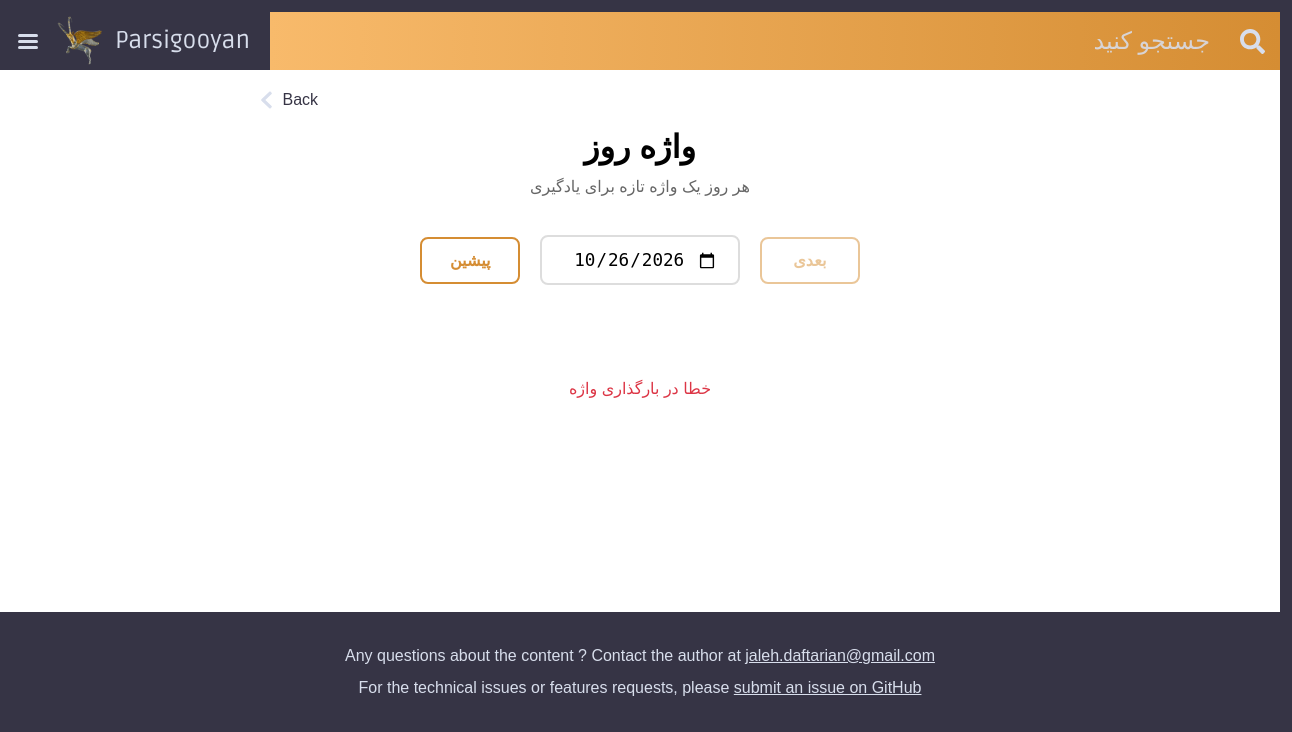
Word of the Date page › Go to today button › navigates back to today when clicking the "go to today" button
Click the button "پیشین". click: (470, 261)
box: [420,237,520,284]
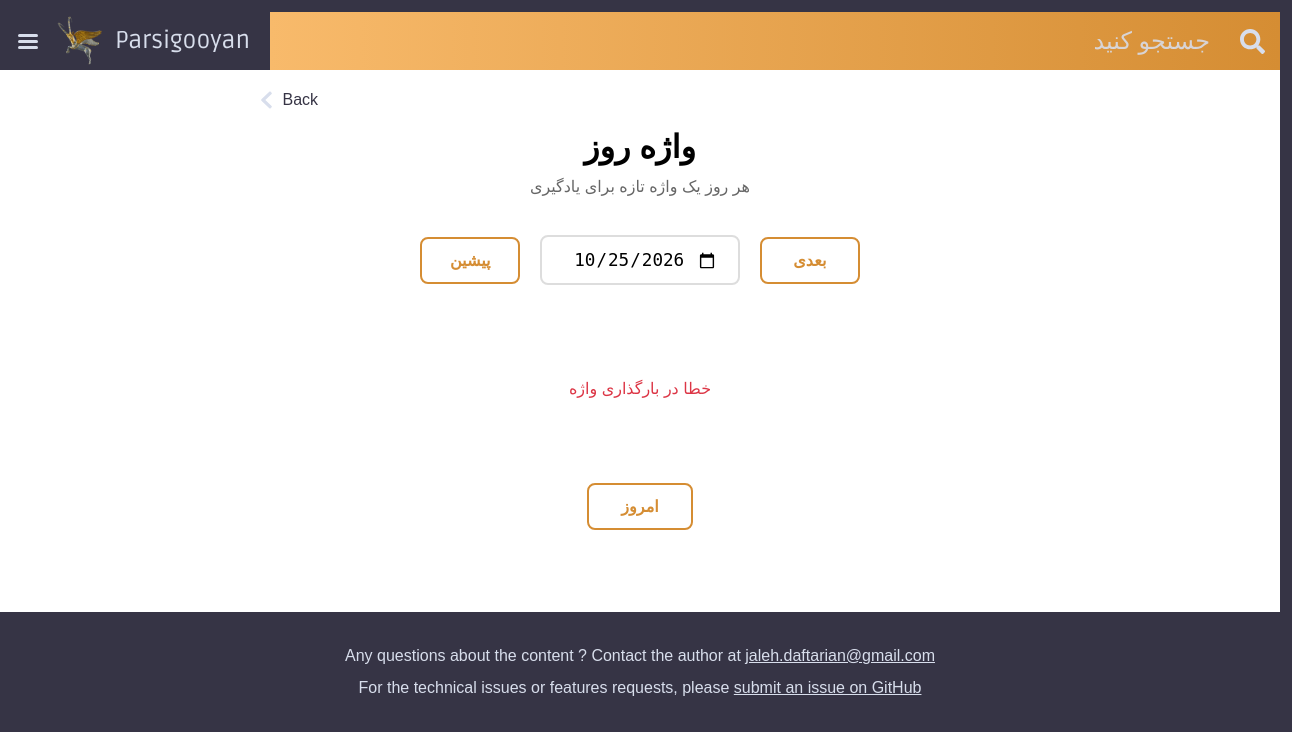
Click the button "پیشین". click: (470, 261)
box: [420,237,520,284]
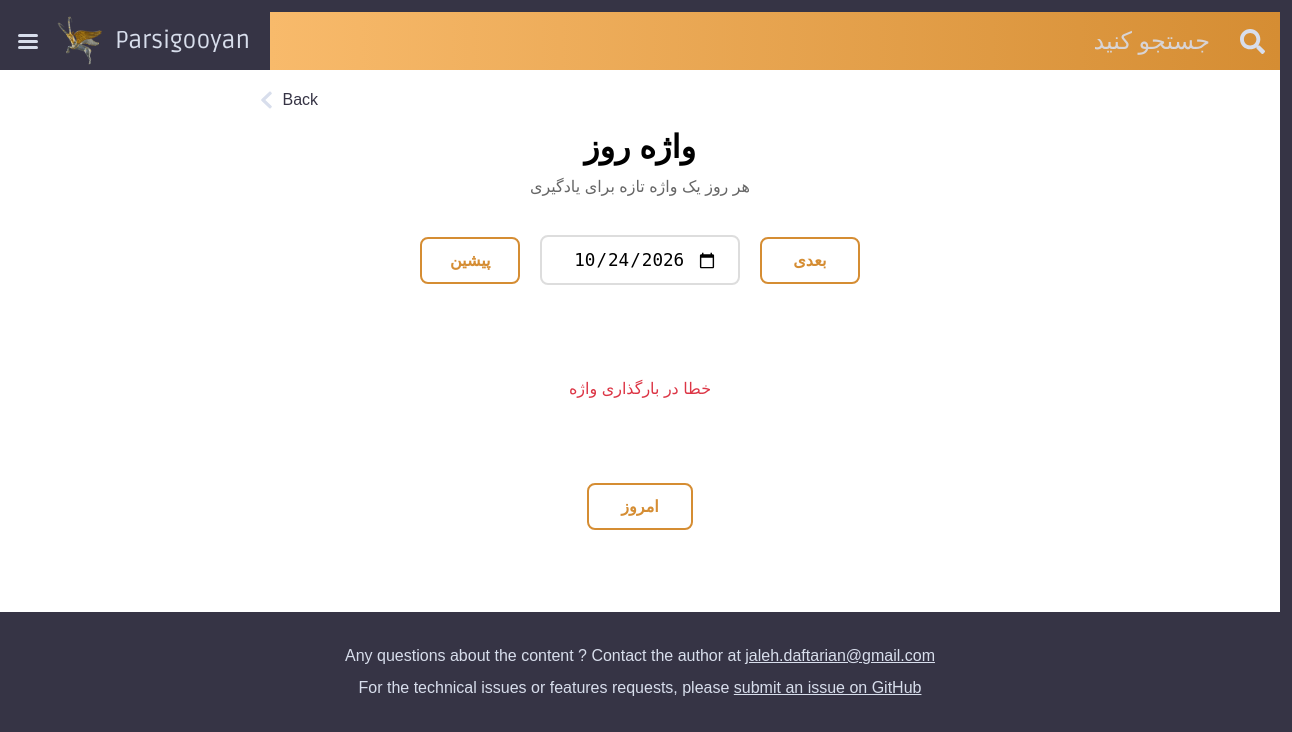
Click the button with class "today-button". click: (640, 507)
box: [587,483,692,530]
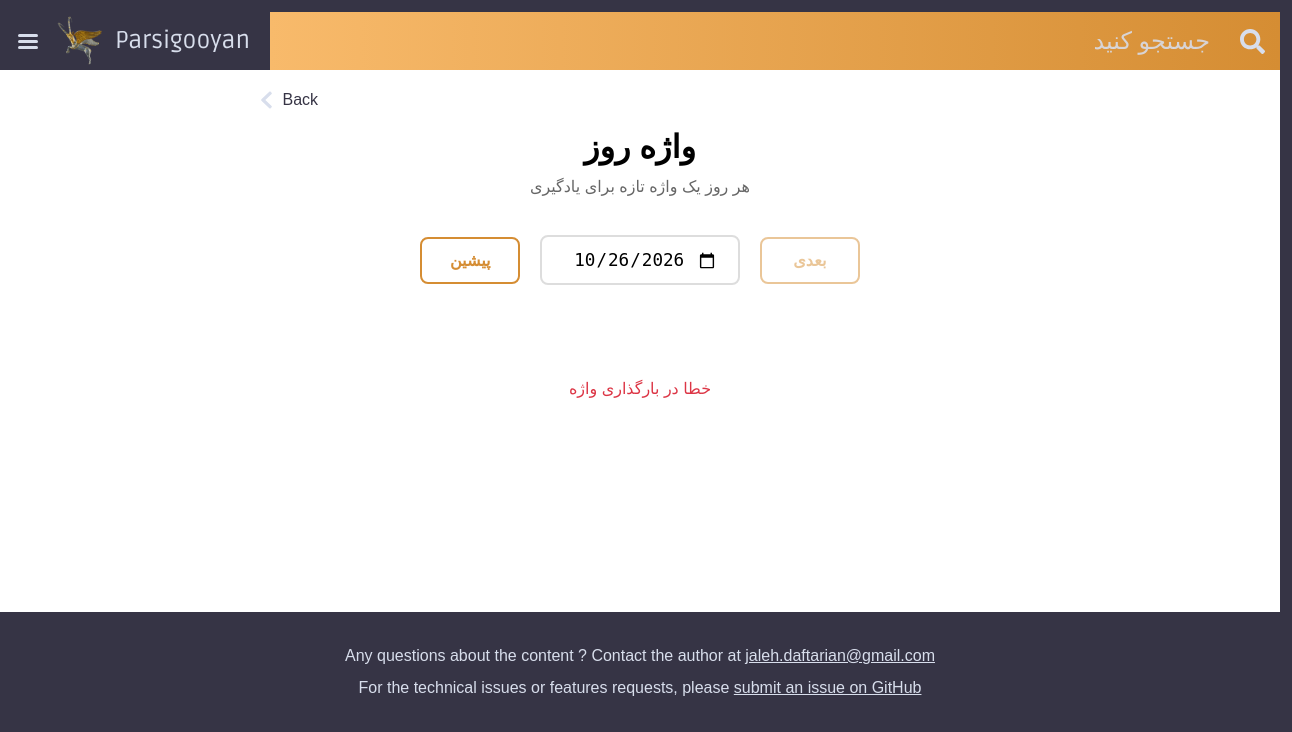
Expected: the button with class "today-button" is gone
